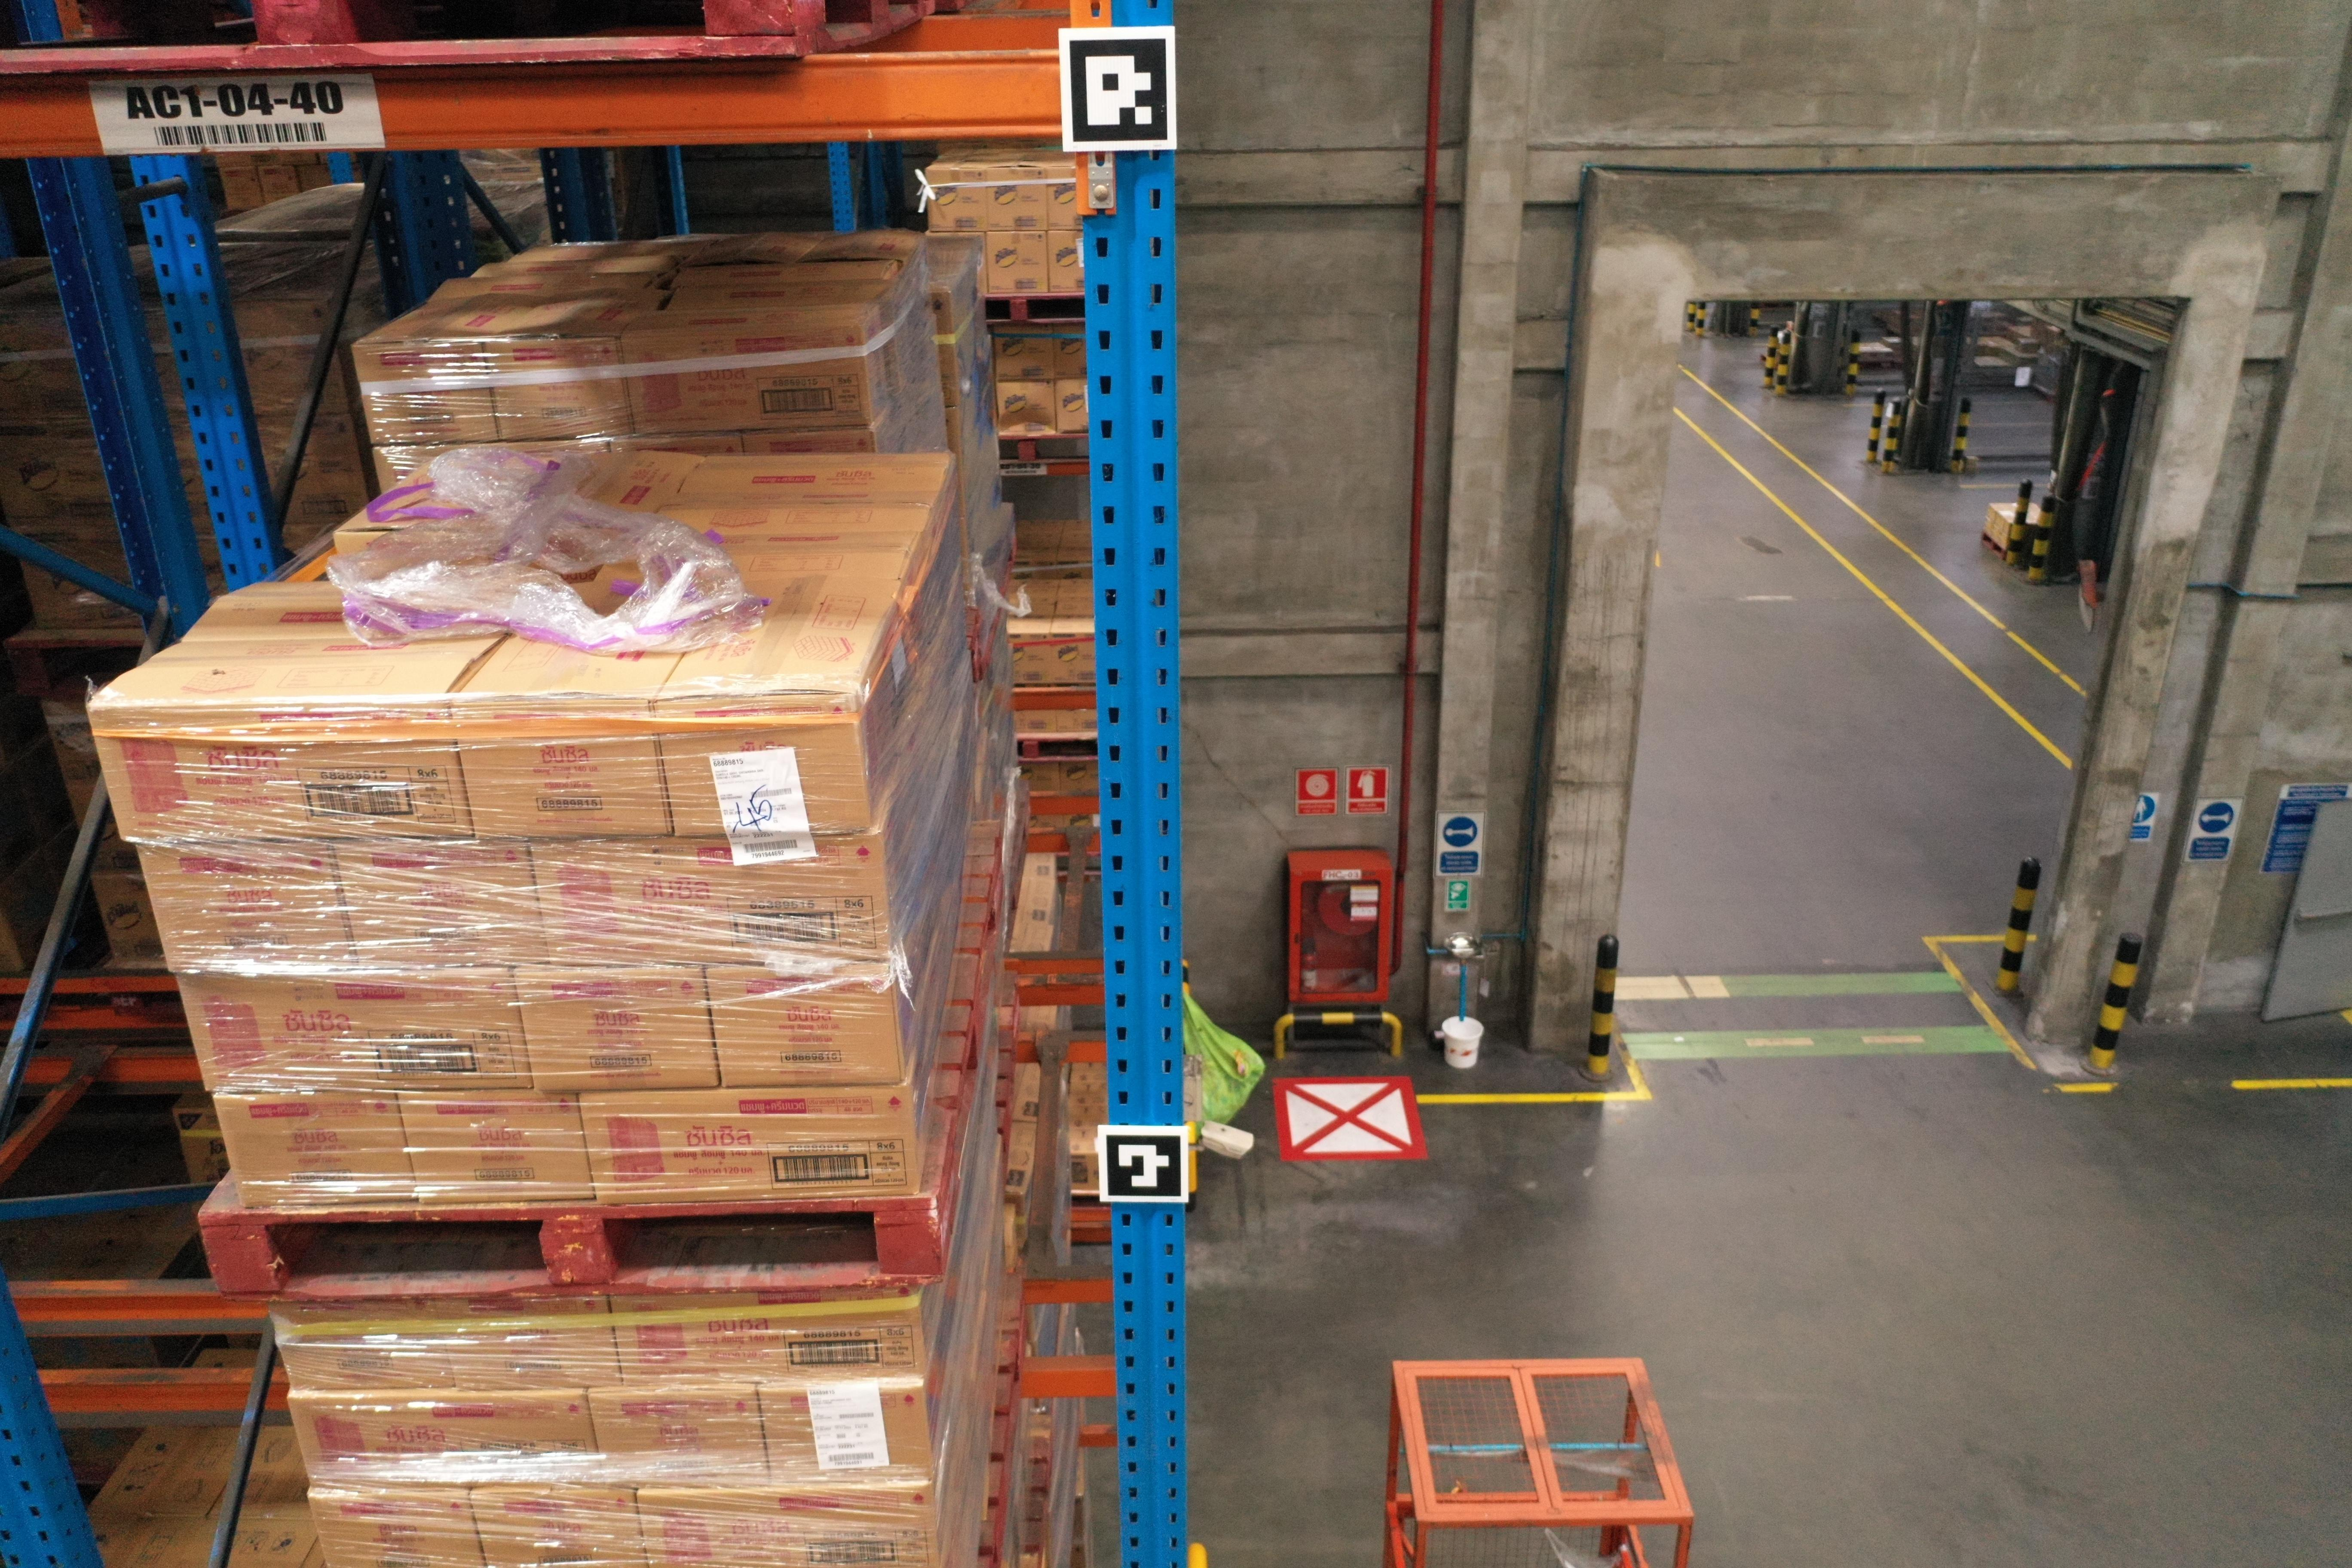-: (86, 700, 474, 843), (534, 831, 894, 971), (175, 966, 532, 1097), (577, 1083, 920, 1202), (609, 1290, 927, 1393), (450, 700, 679, 840), (651, 691, 873, 833), (287, 1389, 607, 1487), (327, 835, 553, 968), (142, 842, 357, 973), (514, 964, 723, 1092), (705, 962, 903, 1088), (642, 1486, 943, 1568), (213, 1092, 422, 1206), (395, 1088, 600, 1200), (759, 1382, 936, 1493), (584, 1388, 773, 1489), (271, 1302, 455, 1396), (441, 1297, 621, 1389), (469, 1487, 653, 1568), (306, 1493, 490, 1568)
box: (618, 317, 871, 436), (350, 338, 500, 448), (481, 336, 630, 437)
